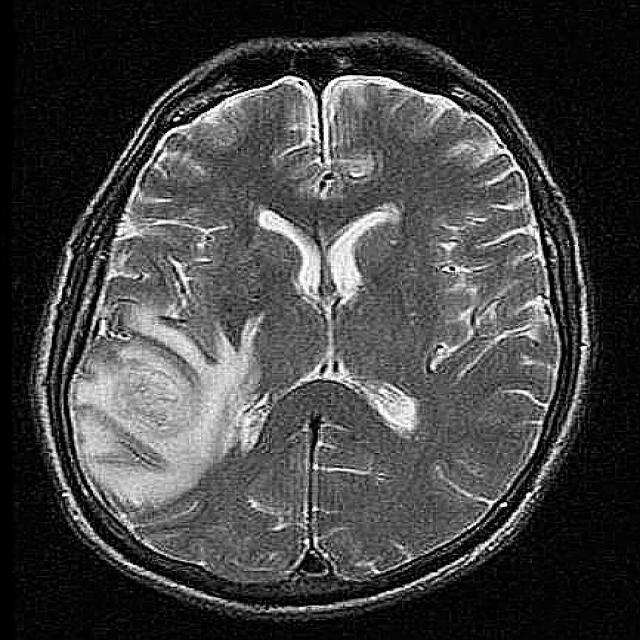Tumor-Cell: (75, 300, 288, 493)
